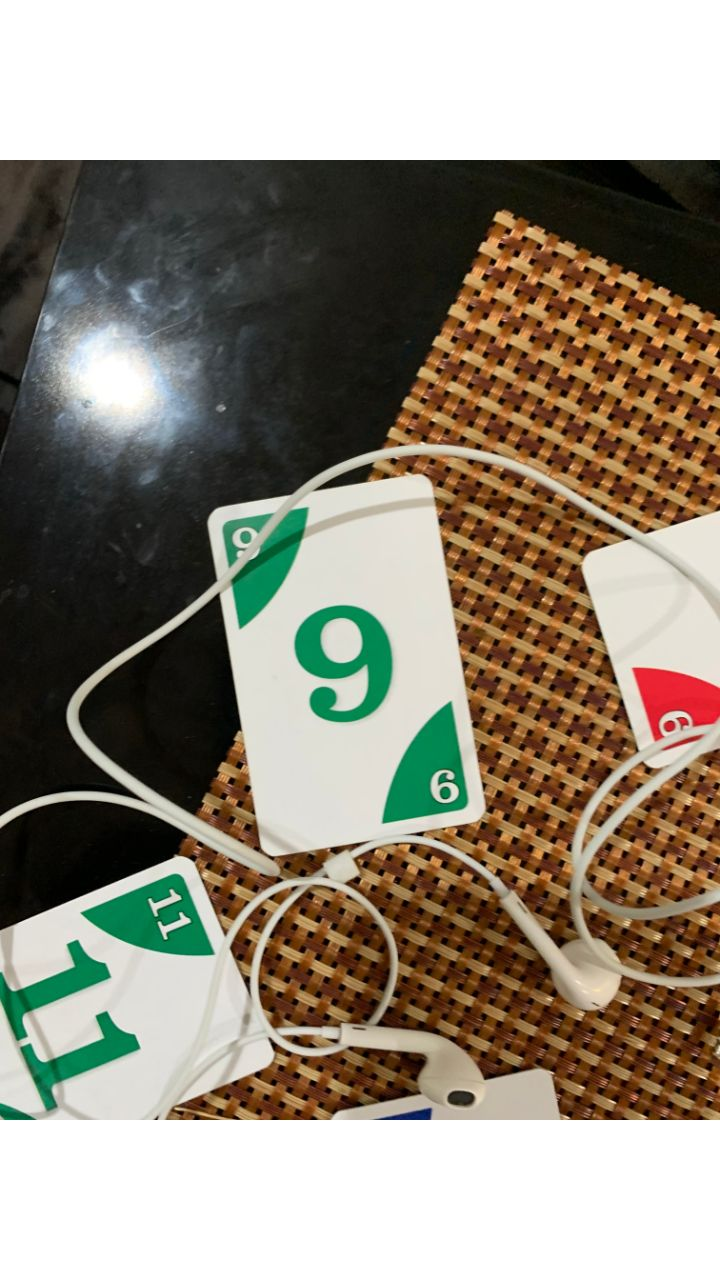nine: (205, 470, 490, 856)
